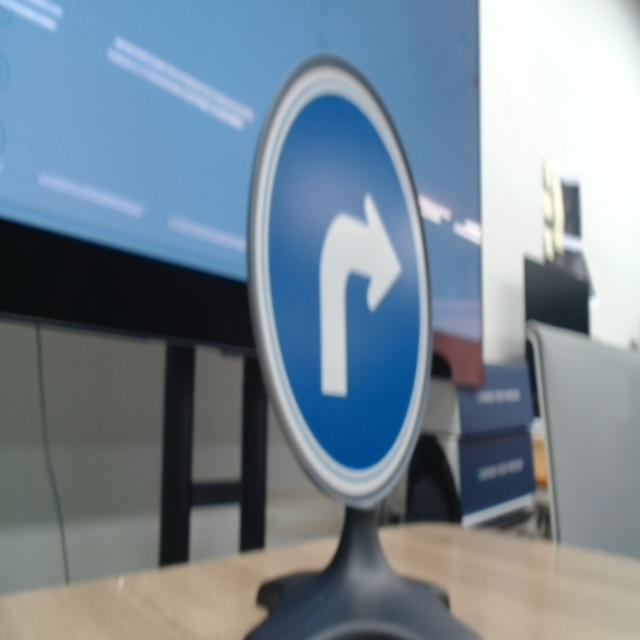right_dierection: (238, 50, 436, 514)
